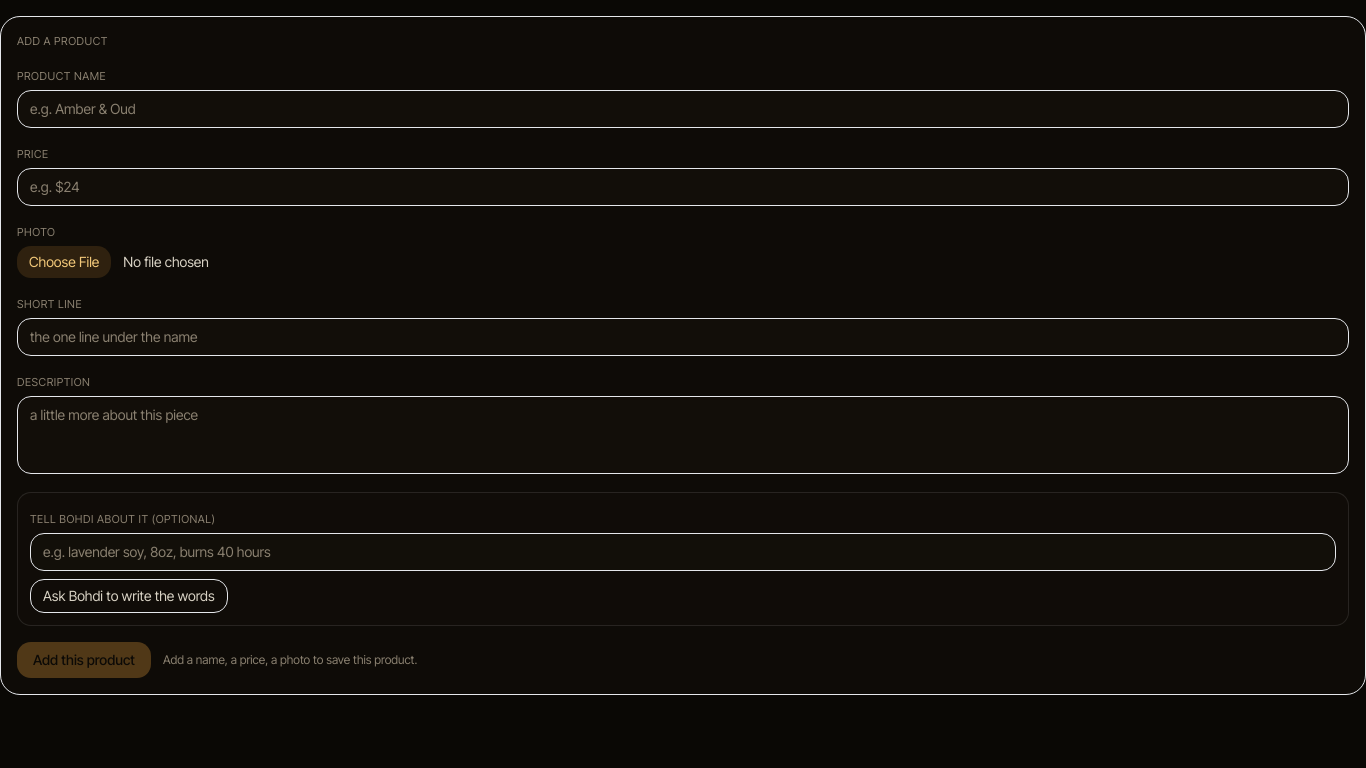
Test: ProductsEditor › explains what is still missing while Save is disabled
Expected: the text "Add a name, a price, a photo to save this product." is shown, [163,652,417,668]
Step 1. Type "Amber" into the field labelled "Product name" → (683, 108), box [17,90,1349,128]
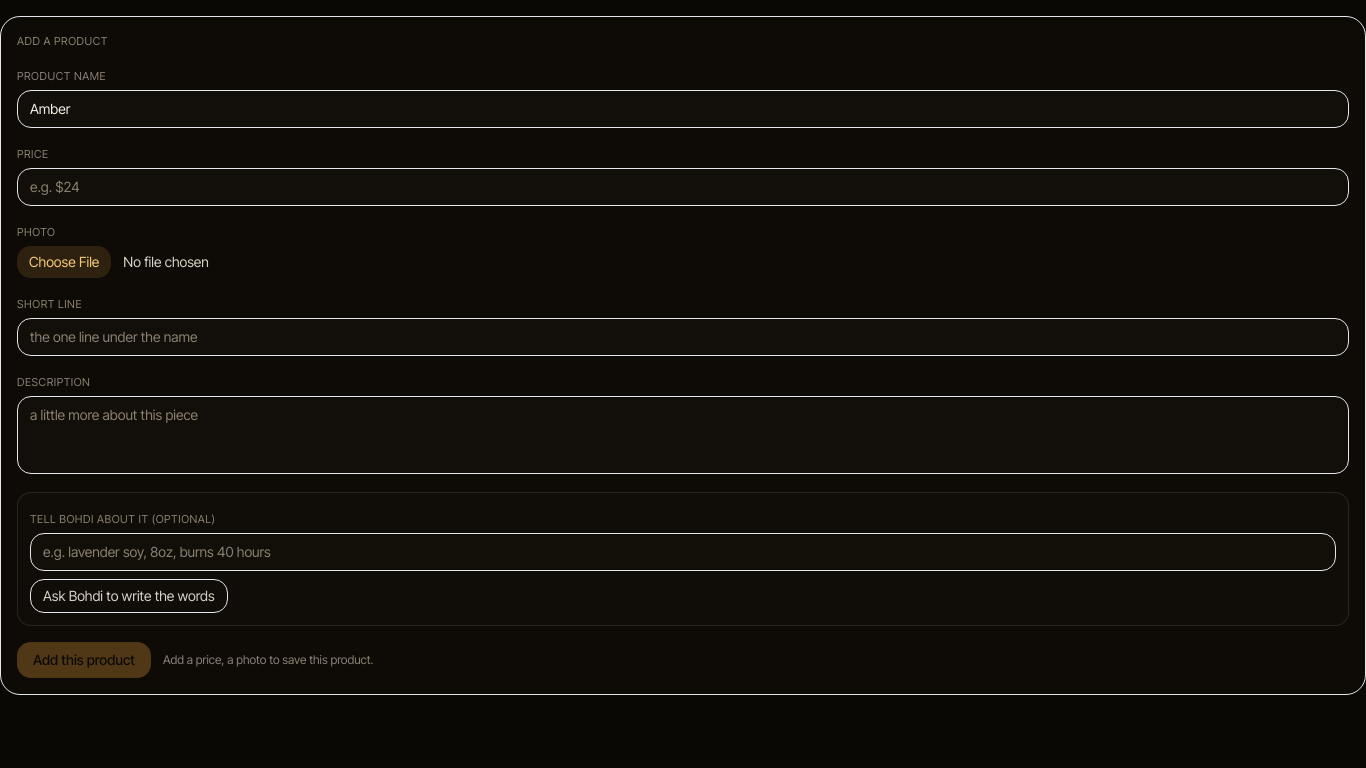
Expected: the text "Add a price, a photo to save this product." is shown, [163,652,373,668]
